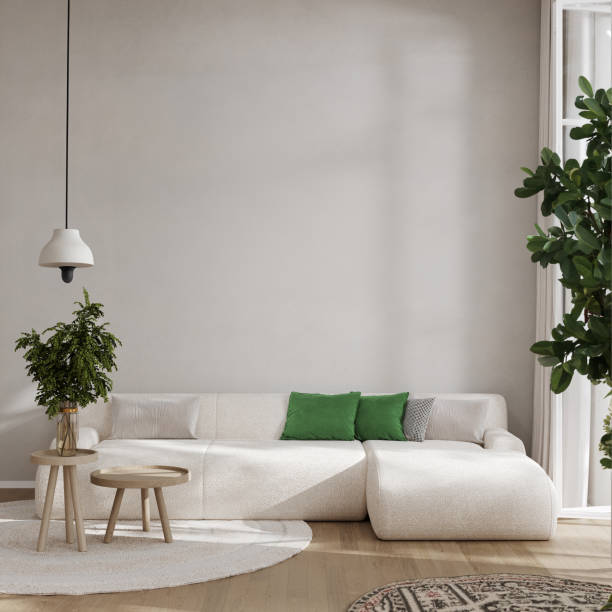large plant: (519, 72, 612, 518)
small plant: (10, 287, 124, 455)
sofa: (34, 384, 563, 547)
table: (92, 464, 193, 547), (30, 447, 98, 554)
